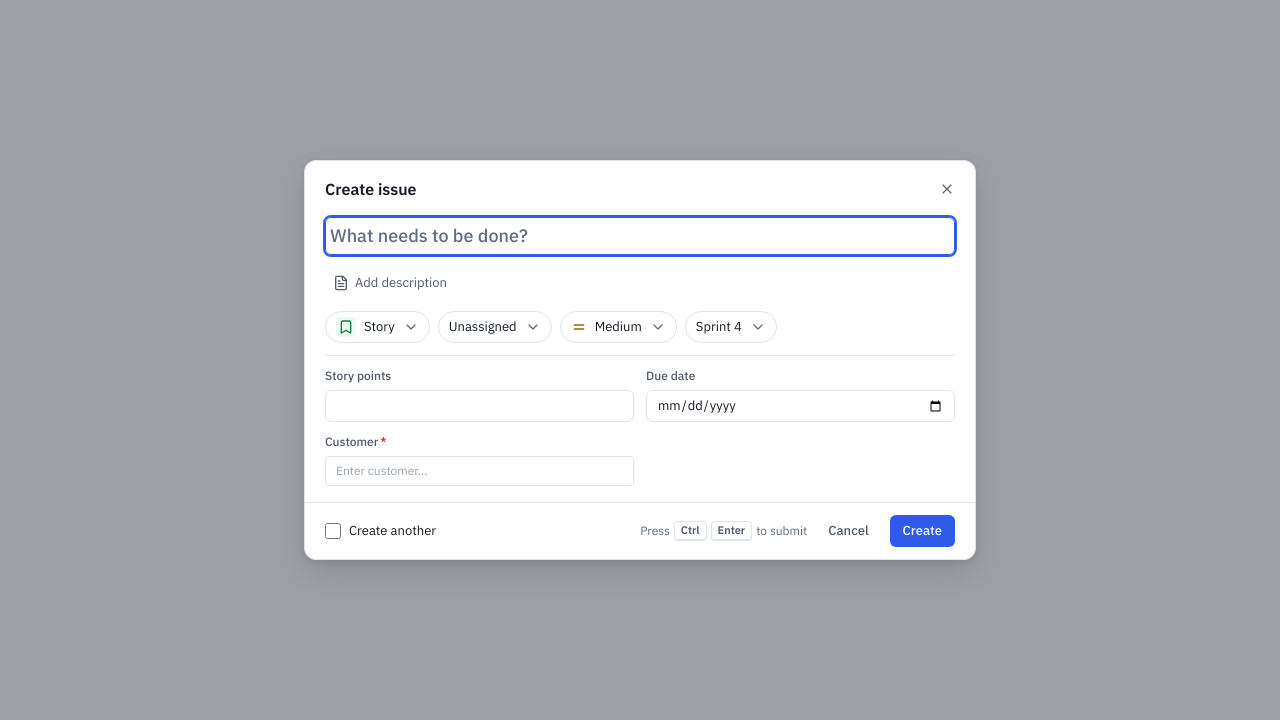
Scenario: quick create › asks for a title, and opens the fields when a required one is empty
This screenshot has width=1280, height=720.
Click the button "Create" at (922, 531), box [890,515,955,547]
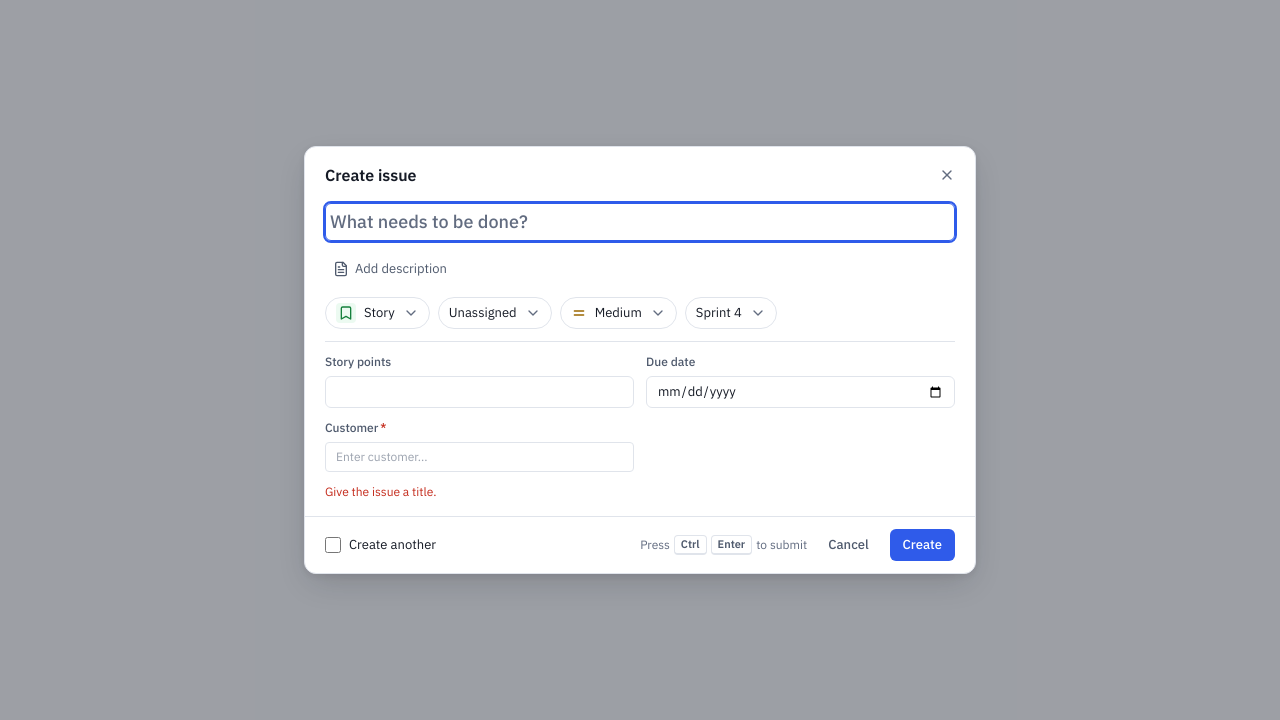
expect the element "Customer" is shown: met, box [325,420,634,472]
expect the message reads "Give the issue a title.": met, box [325,484,436,499]
Type "Needs a customer" into the field named "Title" at (640, 222), box [325,203,955,241]
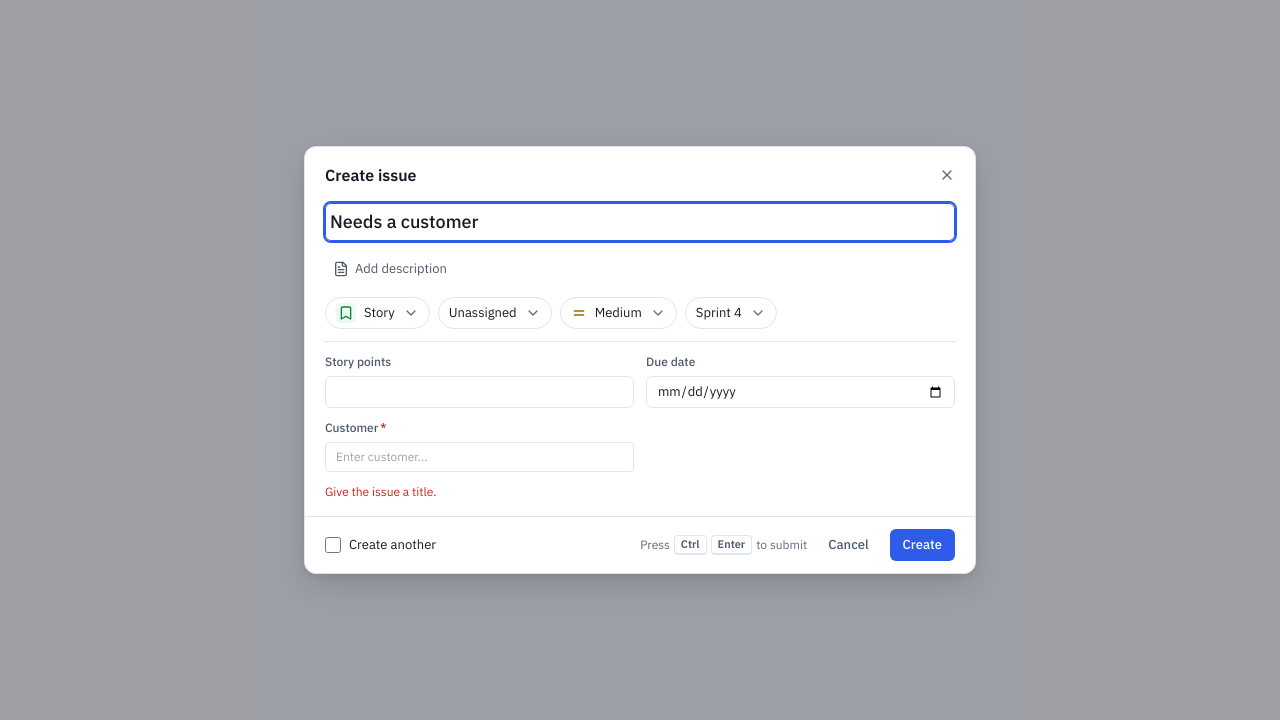
Click the button "Create" at (922, 545), box [890,529,955,561]
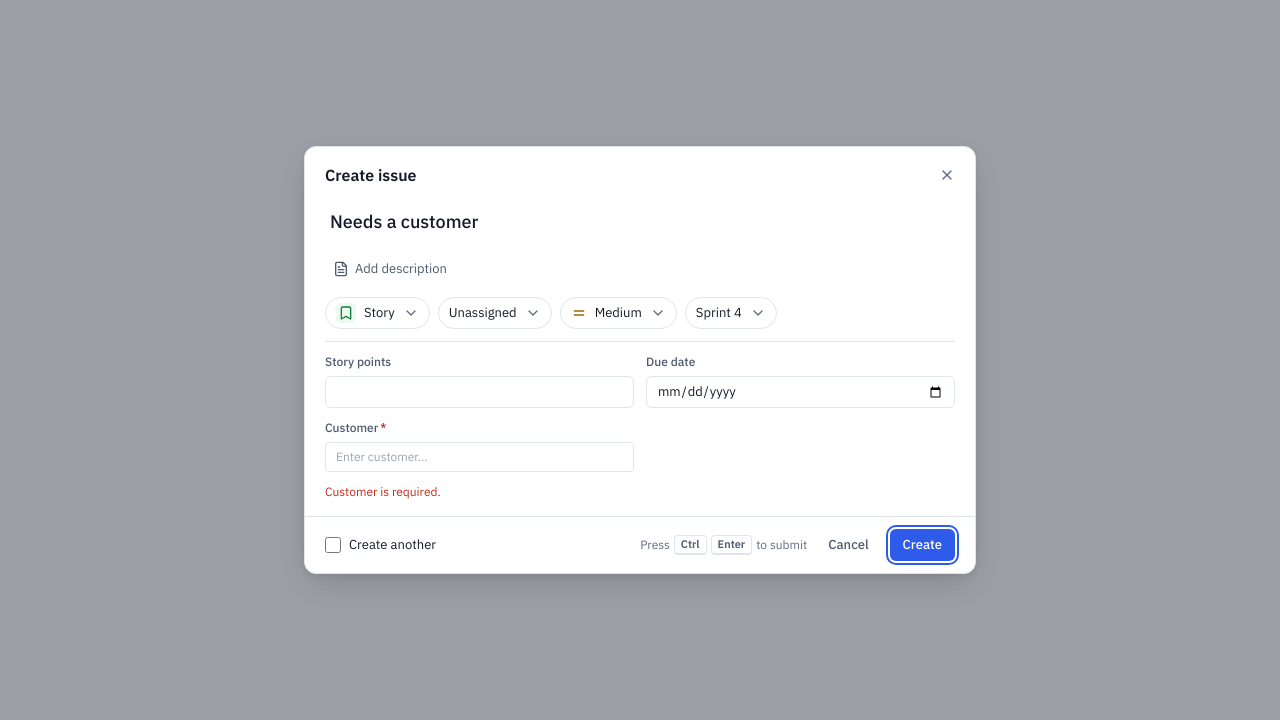
expect the message reads "Customer is required.": met, box [325,484,441,499]
